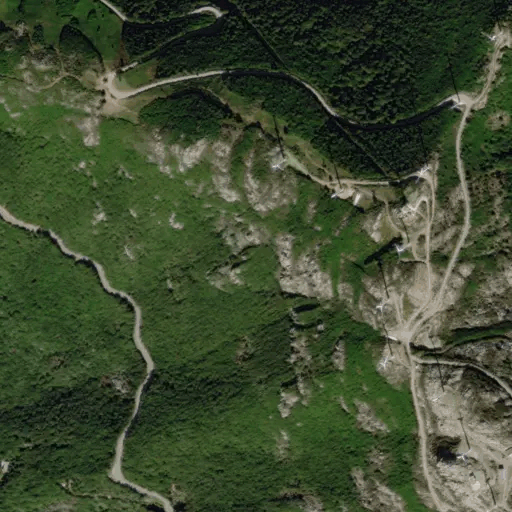wt: (398, 83, 439, 161), (317, 142, 358, 208), (266, 106, 301, 175), (439, 45, 471, 118), (368, 297, 403, 360), (378, 139, 414, 200), (391, 211, 425, 265), (451, 413, 478, 466), (482, 468, 500, 512)
